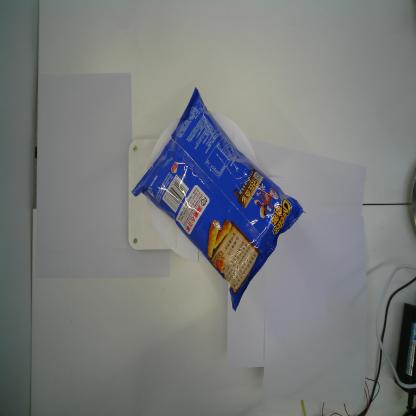Puffed Food: (130, 86, 307, 315)
